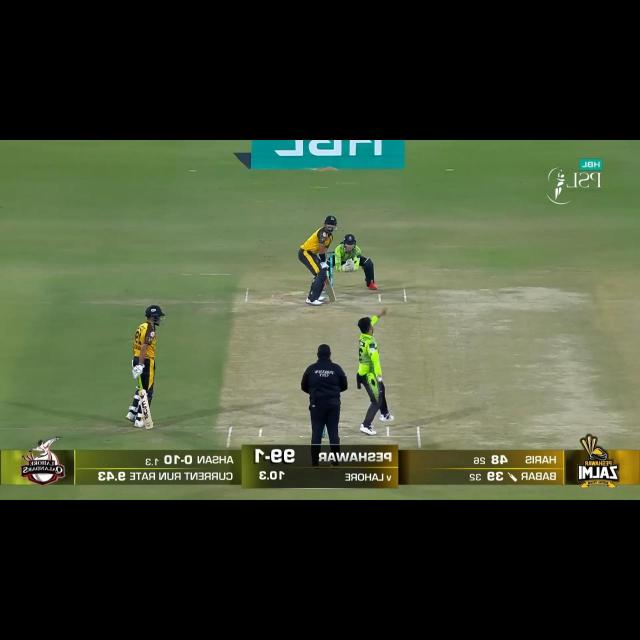bat: (138, 390, 156, 430), (322, 278, 339, 304)
toe: (143, 422, 154, 429), (328, 294, 336, 303)
